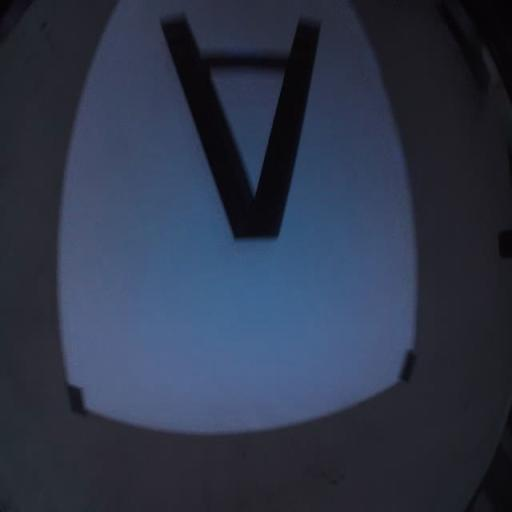A: (158, 13, 323, 241)
